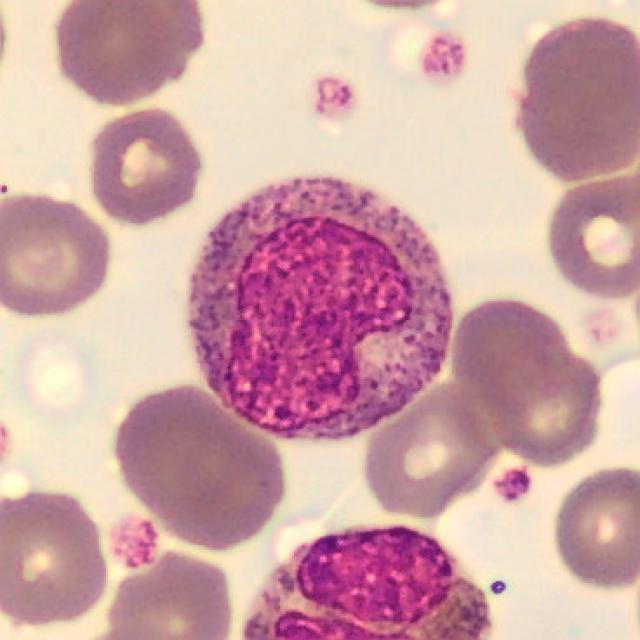Metamielocito: (184, 173, 454, 441)
